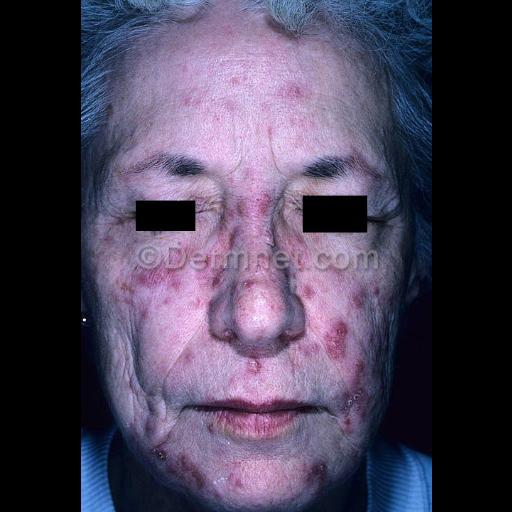Skin_Lesion: (142, 439, 220, 501), (132, 240, 180, 296), (150, 144, 206, 188), (324, 308, 348, 362), (252, 182, 278, 226), (340, 384, 376, 412), (300, 458, 334, 486), (348, 272, 366, 318), (238, 273, 262, 295), (277, 84, 301, 102), (244, 354, 260, 376), (208, 263, 222, 283)
